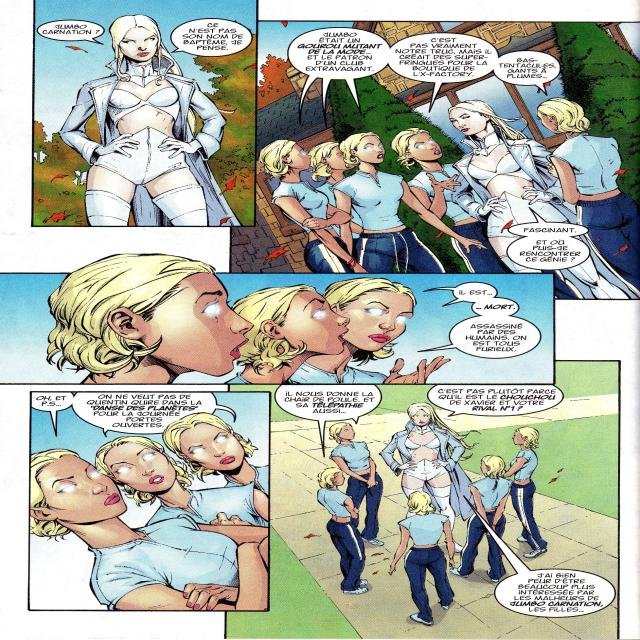comic_panel: (227, 20, 640, 300), (221, 360, 625, 640), (0, 253, 555, 386), (27, 390, 271, 612), (31, 0, 259, 227)
